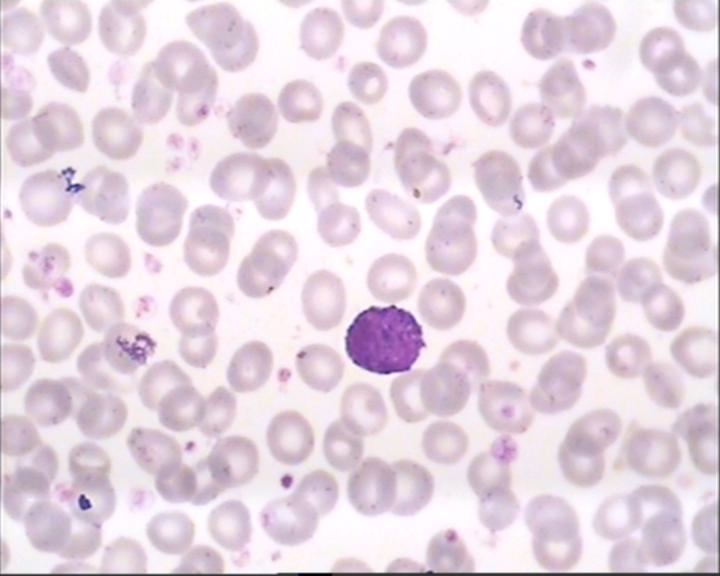baso: (339, 299, 426, 376)
